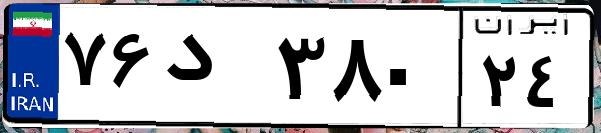0: (385, 28, 445, 110)
2: (475, 38, 525, 113)
3: (270, 28, 330, 110)
4: (525, 38, 570, 115)
6: (110, 28, 158, 98)
7: (57, 26, 110, 100)
8: (330, 28, 385, 110)
د: (158, 20, 270, 120)
